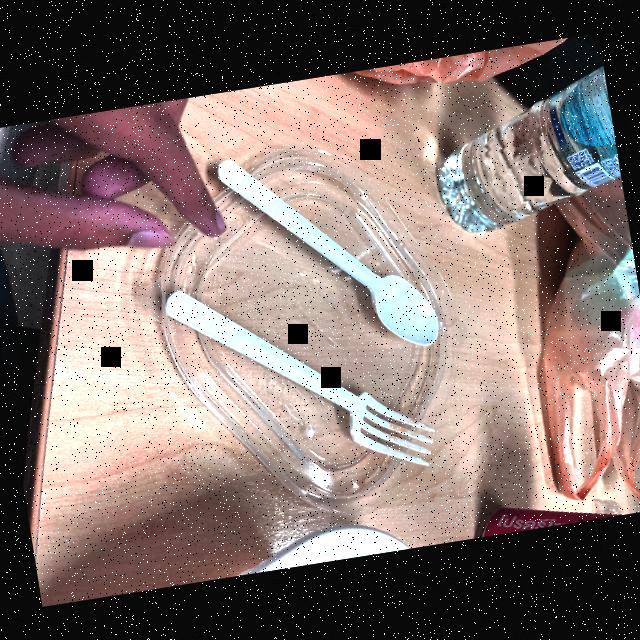plastic_spoon: (144, 243, 440, 515), (202, 128, 454, 386)
